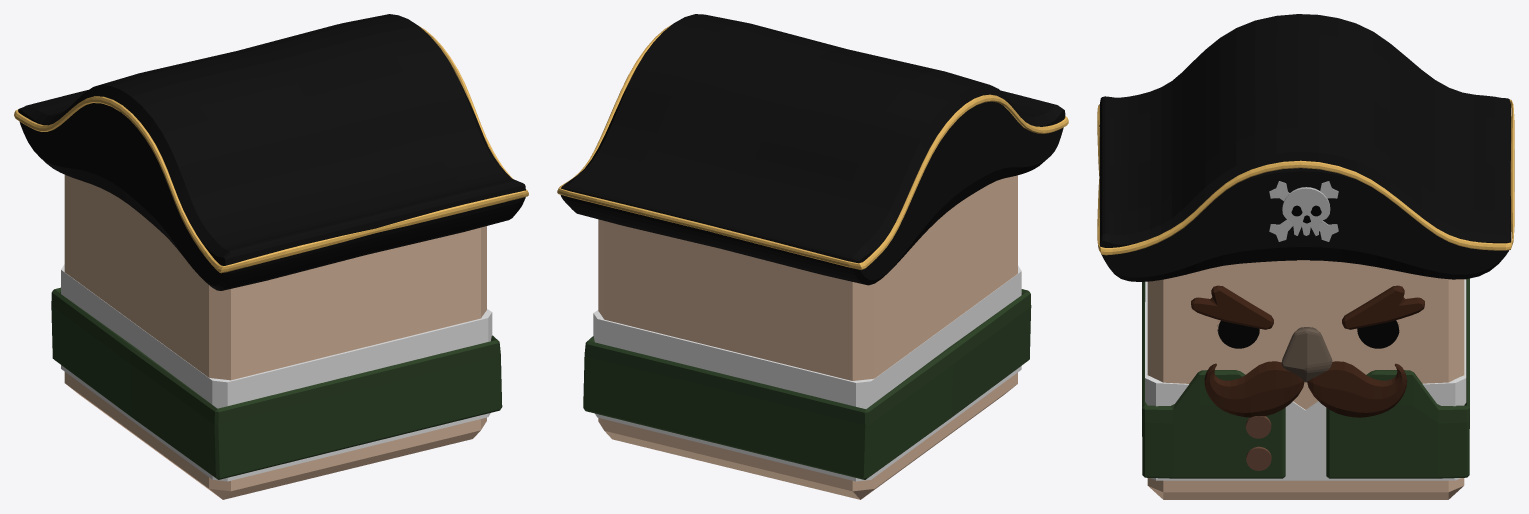
The model's file is pirata captain 3d.fbx.
3 renders of one model, left to right at view 1: azimuth 30°, elevation 25°; view 2: azimuth 150°, elevation 25°; view 3: azimuth 270°, elevation 25°, orthographic.
Parts seen in each view (by area): view 1: Cube.001; view 2: Cube.001; view 3: Cube.001.
Part boxes in pixels (bbox=[...]): Cube.001: bbox=[14, 14, 528, 499]; Cube.001: bbox=[557, 14, 1068, 499]; Cube.001: bbox=[1097, 14, 1514, 499].
Size of the model in its own units: 2.28 by 2.49 by 2.64.
